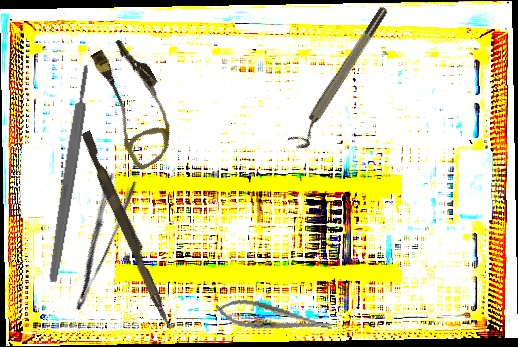Cannula: (76, 33, 193, 172)
Dressing Forceps: (52, 170, 140, 314)
Fixation Ring: (286, 4, 397, 153)
Needle Holder: (213, 294, 335, 342)
Pusher: (75, 130, 181, 331)
Scalpel Handle: (46, 63, 94, 284)
